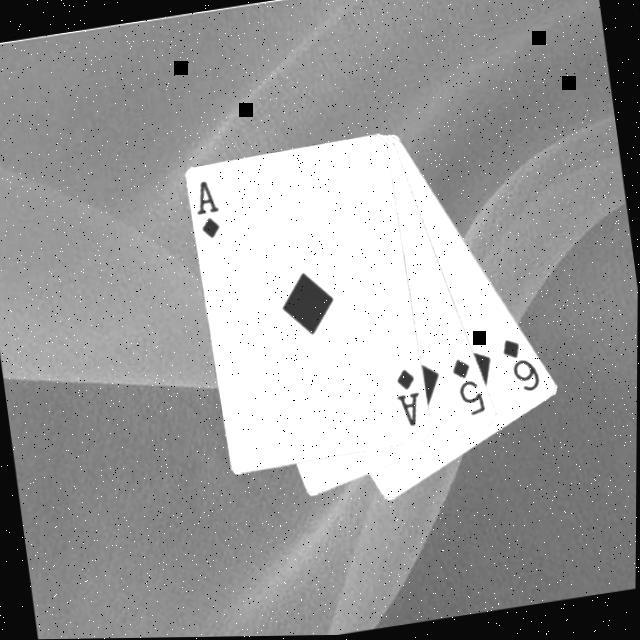5D: (446, 352, 489, 420)
6D: (496, 331, 544, 399)
AD: (389, 364, 425, 430), (189, 176, 225, 242)
